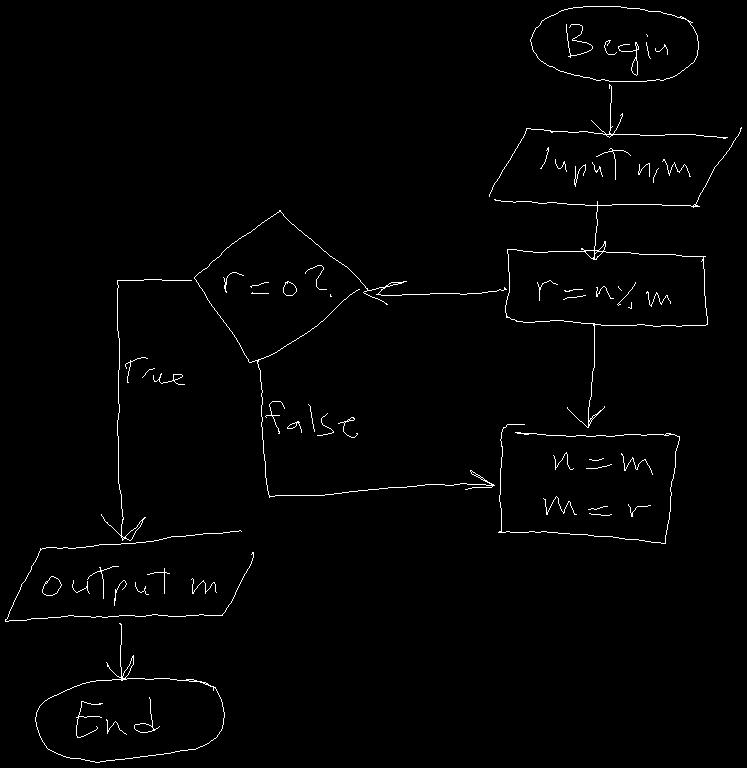arrow: (257, 360, 494, 497), (101, 279, 191, 540), (567, 324, 604, 427), (363, 281, 506, 304), (591, 84, 622, 137), (106, 623, 133, 680), (581, 201, 605, 259)
data: (5, 530, 253, 621), (489, 127, 741, 207)
decision: (194, 210, 367, 362)
process: (498, 424, 679, 543), (505, 249, 707, 326)
terminator: (35, 678, 224, 762), (530, 6, 698, 81)
text: (543, 452, 652, 516), (42, 566, 216, 605), (540, 147, 690, 186), (566, 24, 667, 75), (537, 280, 670, 308), (223, 265, 331, 296), (76, 697, 159, 737), (265, 401, 357, 437), (125, 357, 184, 384)
